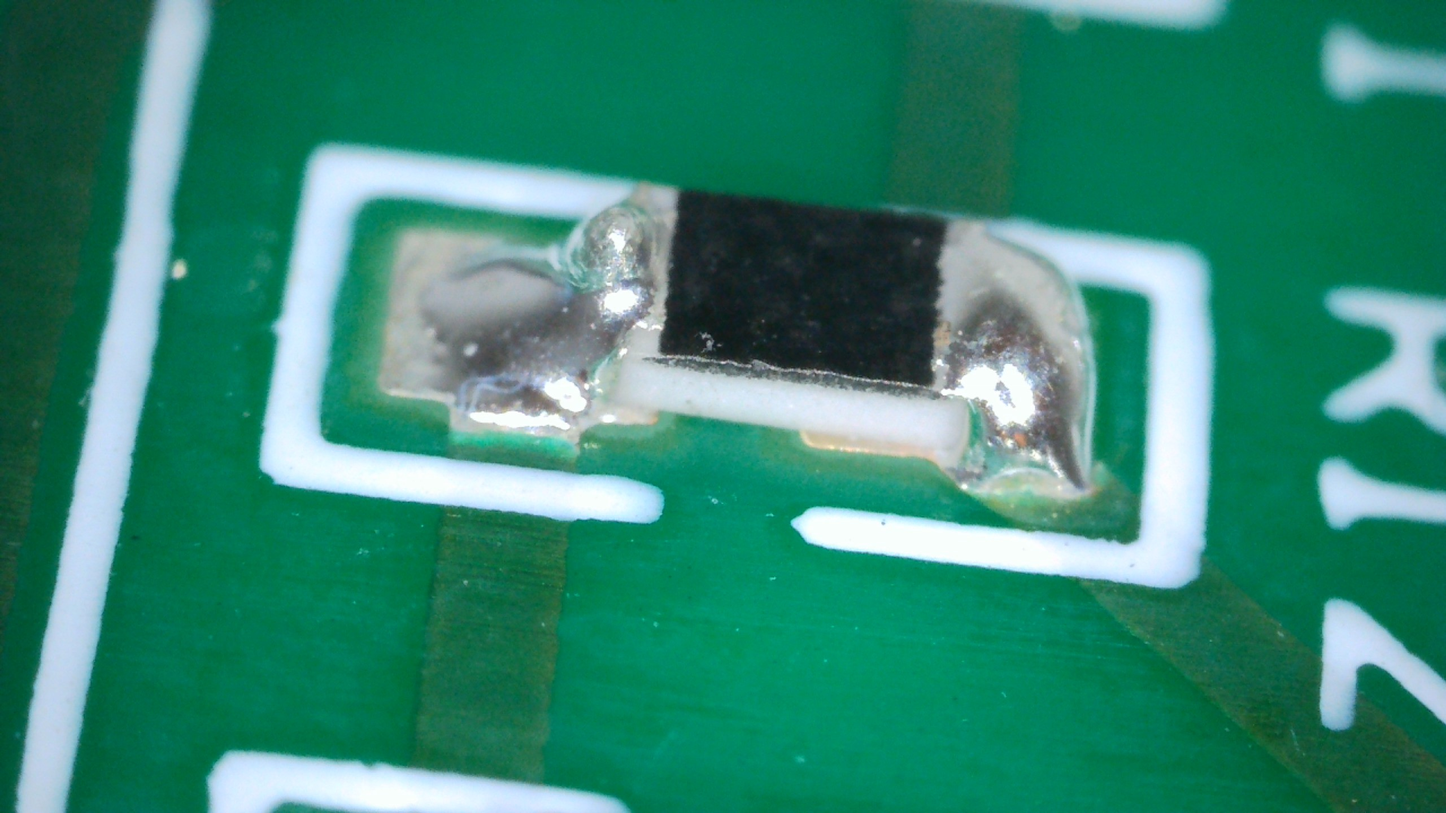NG: (426, 205, 658, 407), (930, 217, 1088, 491)
